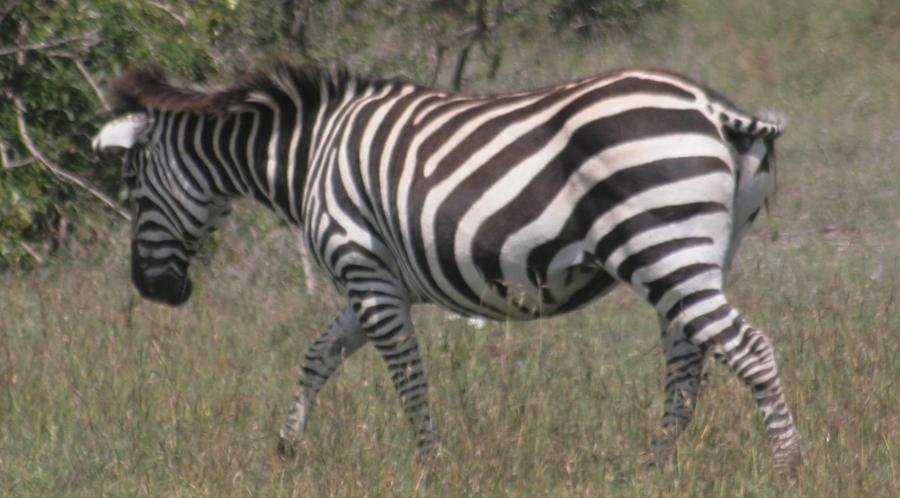zebra_plains: (262, 56, 758, 333)
